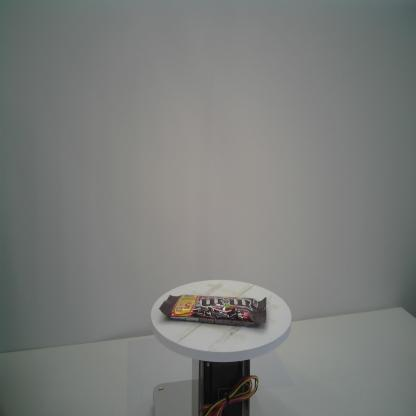Chocolate: (158, 294, 268, 328)
